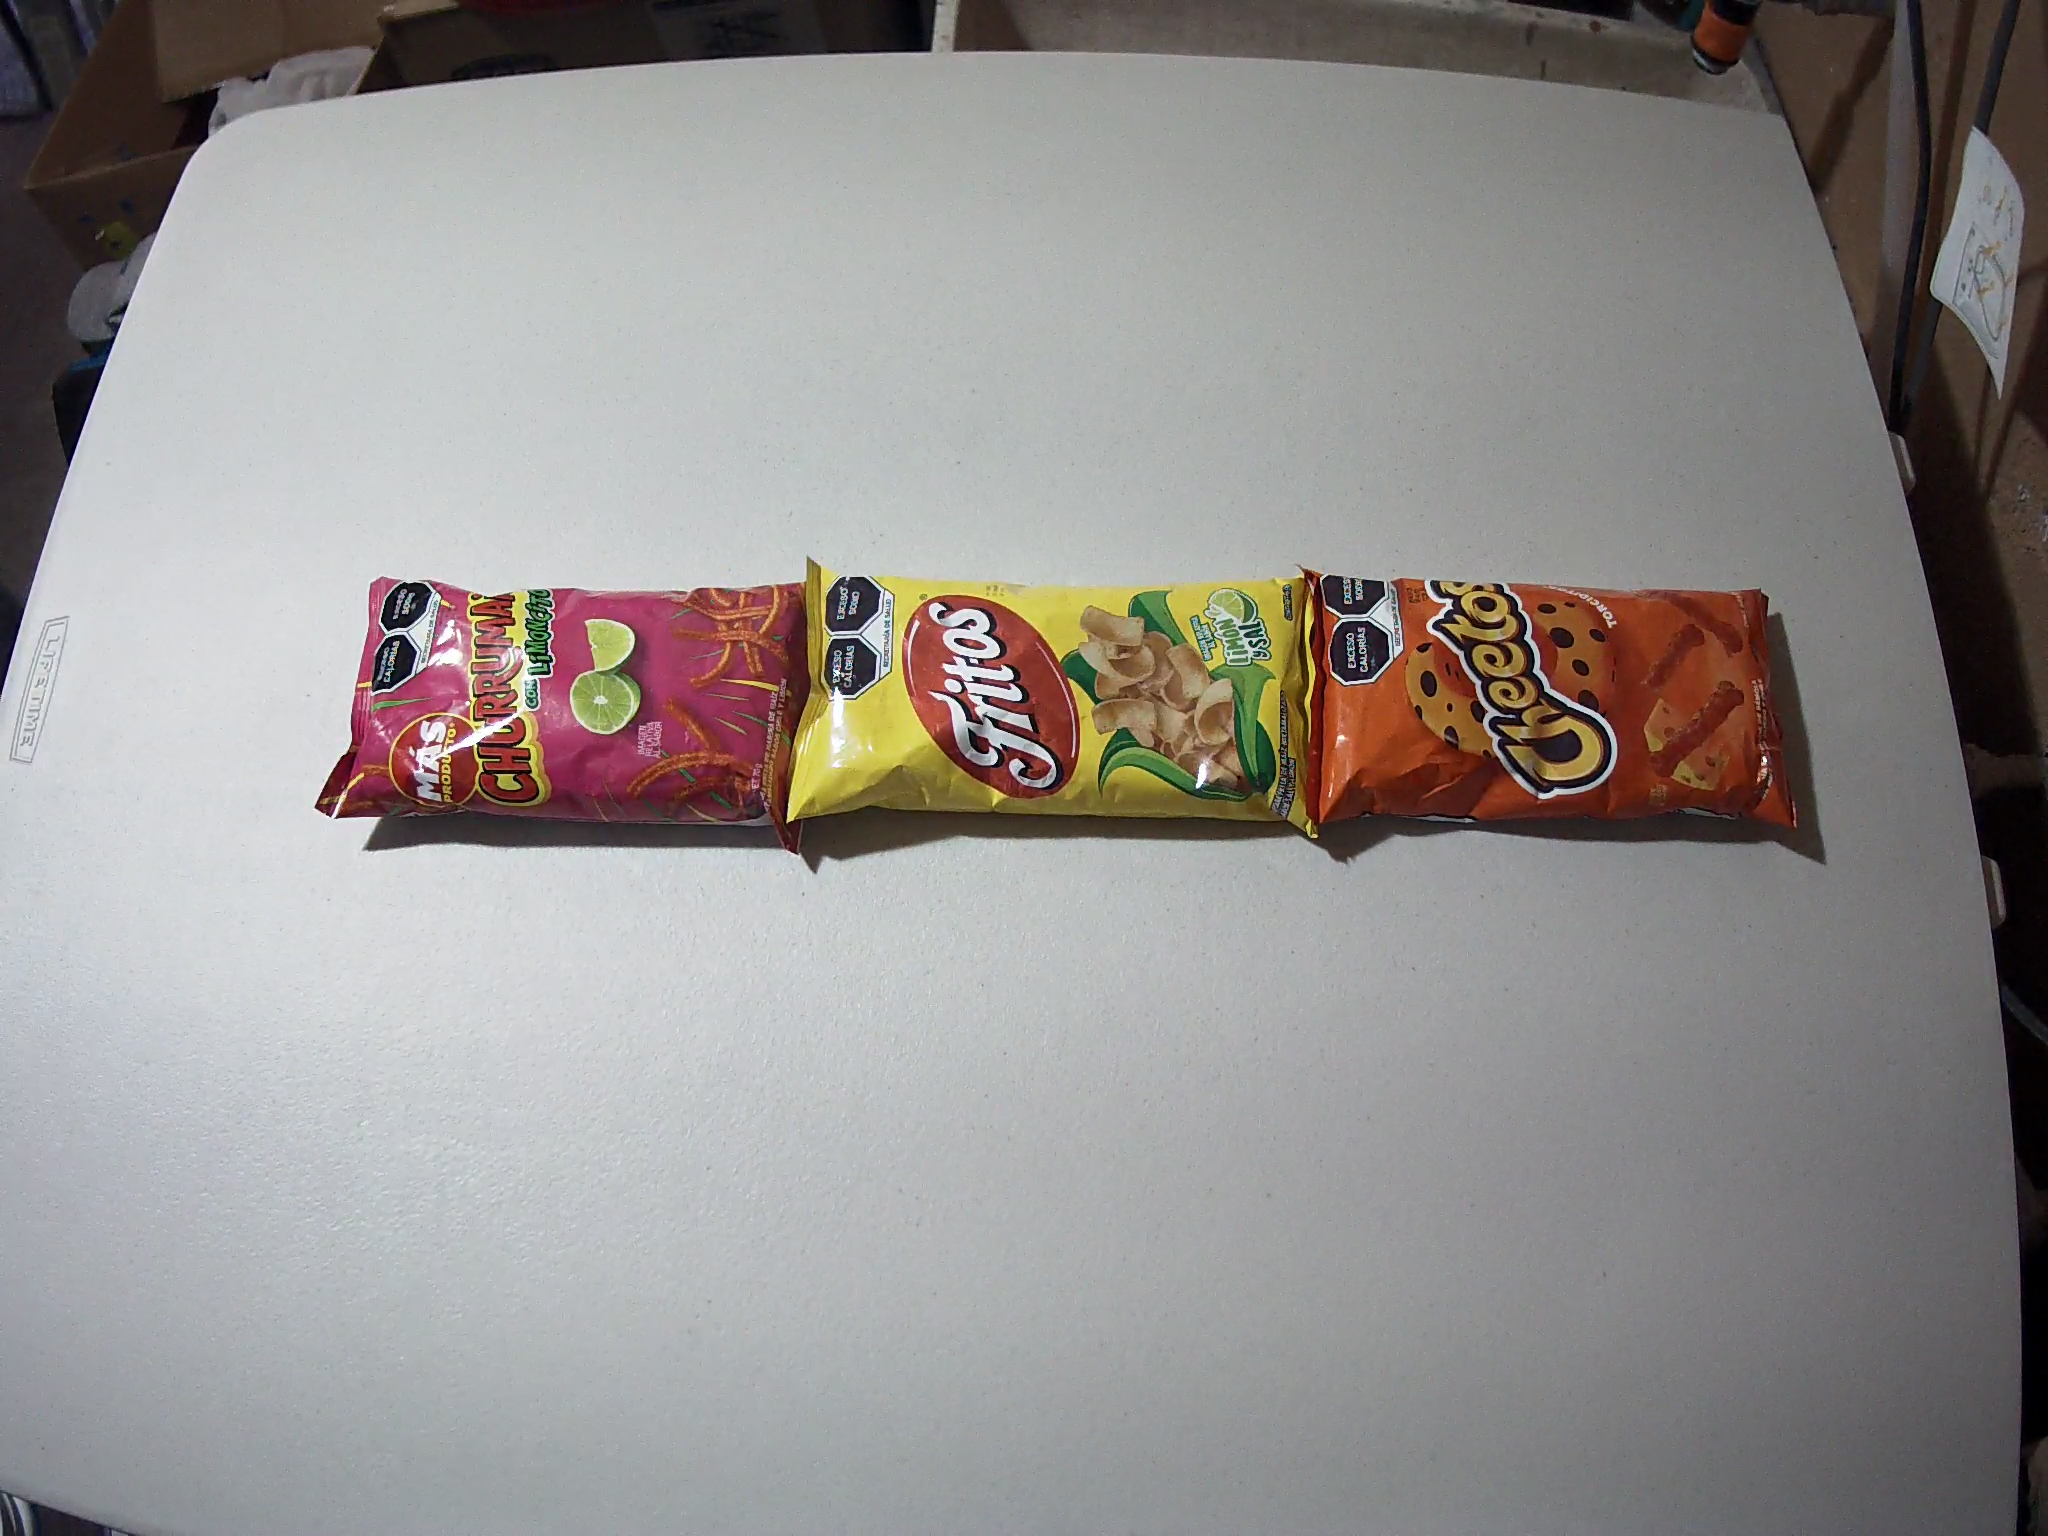CheetosTorciditos_55_F: (1293, 561, 1800, 836)
Churrumais_70_F: (316, 574, 813, 858)
FritosSalLimon_65_F: (785, 553, 1324, 845)
